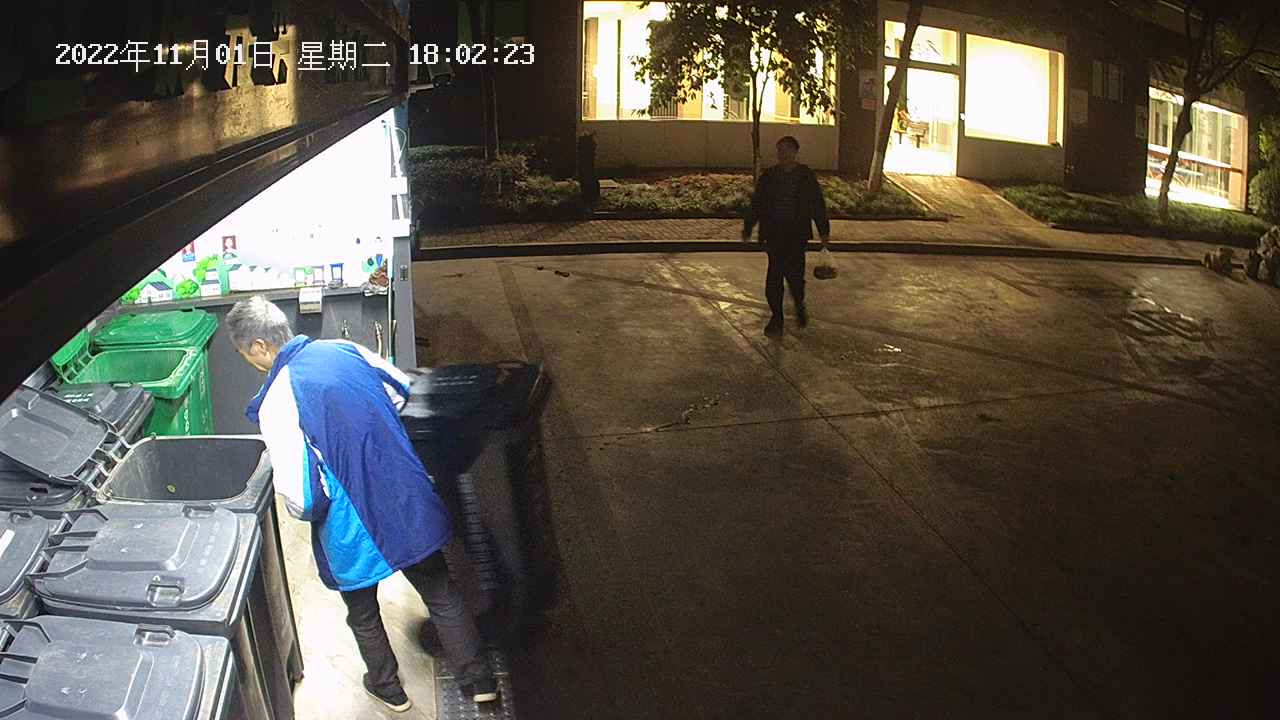garbage-bag: (812, 245, 839, 281)
person: (740, 135, 831, 341)
worker: (224, 291, 502, 714)
